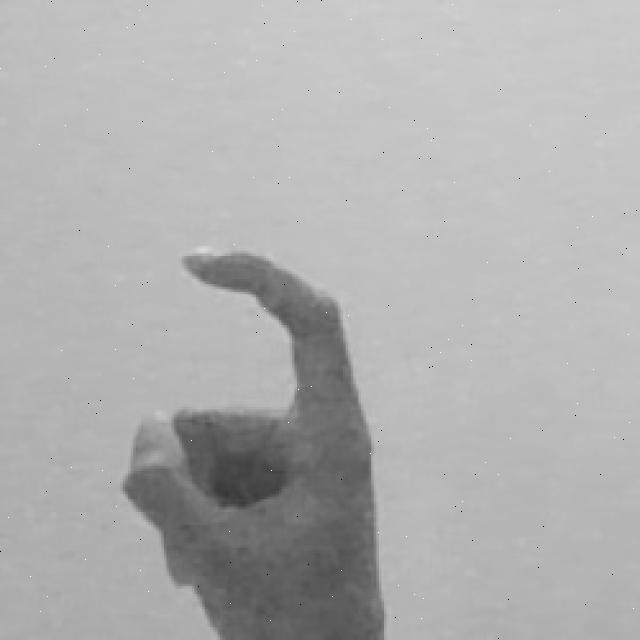X: (108, 240, 397, 640)
